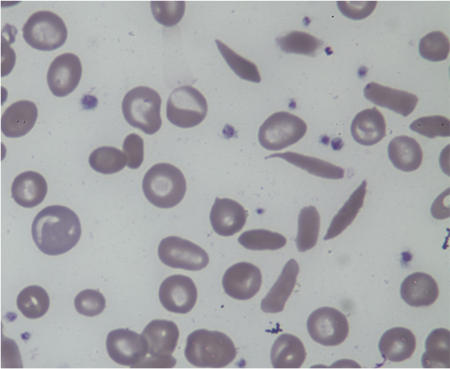redbloodcell: (29, 205, 89, 257), (141, 161, 188, 213), (152, 271, 202, 316), (346, 103, 389, 148)
sicklecell: (210, 31, 271, 91), (324, 174, 371, 247), (265, 145, 350, 185), (257, 256, 307, 320)
